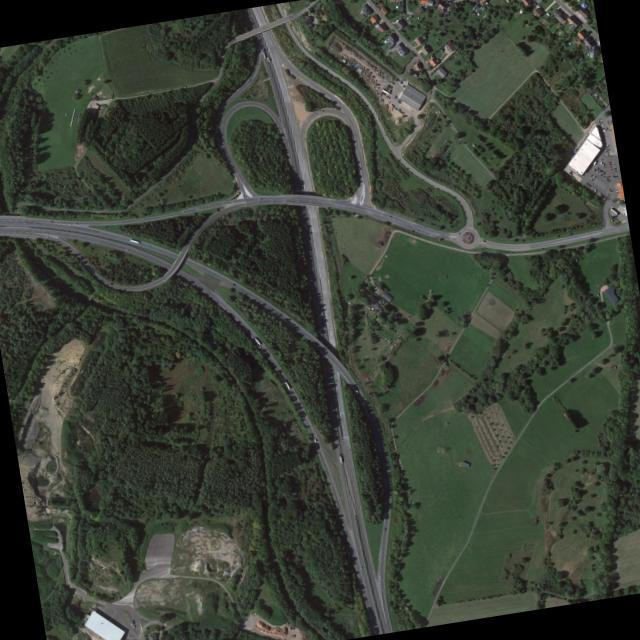large-vehicle: (610, 207, 619, 214), (254, 336, 261, 344), (381, 88, 390, 94), (284, 380, 290, 389), (130, 238, 140, 243), (261, 49, 266, 58), (339, 453, 342, 462), (593, 159, 597, 164), (267, 55, 270, 61), (594, 188, 597, 192), (600, 160, 603, 164), (602, 129, 605, 131)
small-vehicle: (313, 437, 316, 441), (247, 78, 250, 82), (587, 183, 590, 186), (600, 173, 603, 176), (603, 175, 606, 178), (601, 194, 604, 197), (606, 177, 609, 180), (603, 171, 606, 174), (331, 42, 334, 45), (398, 78, 401, 81), (330, 46, 333, 49), (233, 282, 236, 285), (79, 255, 82, 258), (377, 117, 379, 121), (183, 86, 187, 88), (597, 170, 599, 173), (591, 173, 593, 176), (591, 178, 594, 180), (586, 182, 589, 184), (609, 187, 611, 190), (599, 192, 601, 195), (601, 169, 603, 172), (598, 168, 601, 170), (597, 167, 600, 169), (593, 167, 595, 170), (600, 158, 603, 160), (615, 189, 618, 191), (615, 188, 618, 190), (615, 186, 618, 188), (615, 174, 618, 176), (613, 167, 616, 169), (609, 163, 612, 165), (609, 162, 612, 164), (608, 160, 611, 162), (606, 153, 609, 155), (605, 150, 608, 152), (329, 48, 332, 50), (396, 77, 398, 80), (401, 81, 404, 83), (483, 239, 486, 241), (416, 228, 419, 230), (251, 14, 253, 17), (125, 248, 128, 250), (110, 282, 113, 284), (218, 142, 220, 145), (603, 195, 605, 197), (595, 168, 597, 170), (589, 184, 591, 186), (603, 175, 605, 177), (596, 166, 598, 168), (601, 193, 603, 195), (602, 171, 604, 173), (600, 169, 602, 171), (616, 176, 618, 178), (613, 176, 615, 178), (613, 175, 615, 177), (613, 173, 615, 175), (610, 165, 612, 167), (605, 149, 607, 151), (608, 148, 610, 150), (327, 46, 329, 48), (397, 78, 399, 80), (400, 80, 402, 82), (75, 222, 77, 224), (613, 169, 616, 170), (611, 171, 614, 172), (606, 144, 609, 145), (612, 163, 615, 164), (607, 126, 608, 129), (600, 121, 603, 122), (607, 120, 608, 123), (458, 232, 461, 233), (385, 527, 386, 530), (361, 565, 362, 568), (45, 235, 48, 236), (51, 220, 54, 221), (616, 191, 619, 192), (614, 170, 616, 171), (611, 168, 613, 169), (606, 152, 608, 153), (607, 145, 609, 146), (601, 124, 603, 125), (389, 215, 391, 216), (260, 197, 262, 198)
